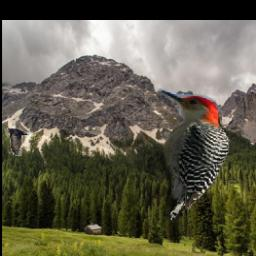Crow: (4, 128, 29, 156)
Woodpecker: (147, 89, 231, 220)
